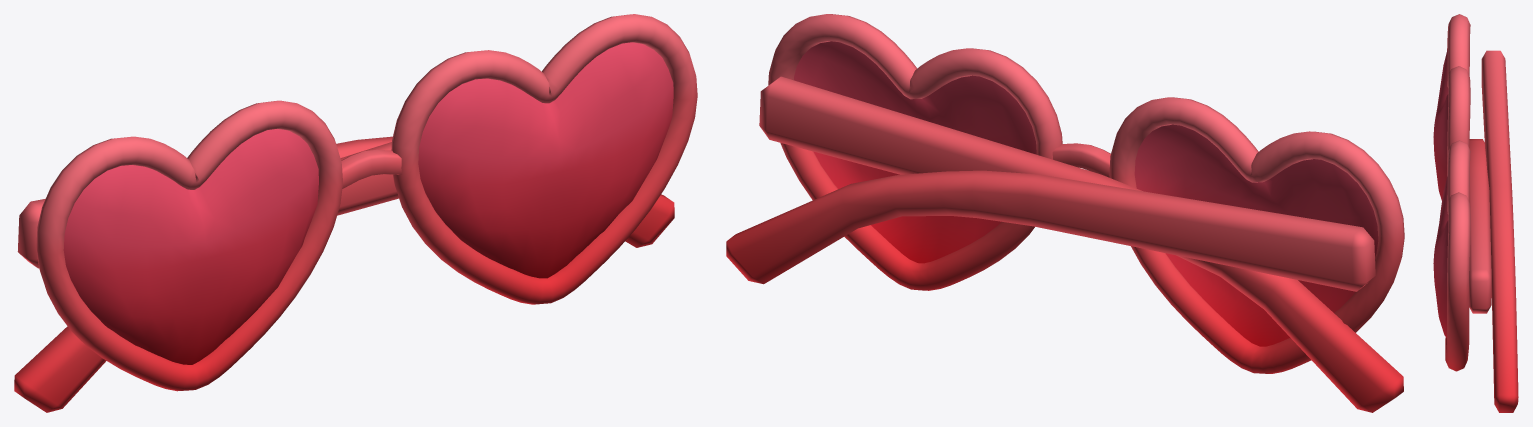
The model's file is glasses.fbx.
The picture shows the model from 3 angles, left to right: view 1: azimuth 30°, elevation 25°; view 2: azimuth 150°, elevation 25°; view 3: azimuth 270°, elevation 25°; orthographic projection. The views are drawn at different scales.
Visible parts, largest first — view 1: glasses_glass, glasses; view 2: glasses, glasses_glass; view 3: glasses, glasses_glass.
Boxes of the visible parts, left/top/right/bottom form: glasses_glass: left=63, top=42, right=673, bottom=364; glasses: left=14, top=14, right=697, bottom=412; glasses: left=726, top=14, right=1404, bottom=412; glasses_glass: left=794, top=41, right=1378, bottom=346; glasses: left=1445, top=14, right=1518, bottom=412; glasses_glass: left=1433, top=49, right=1448, bottom=337.
Size of the model in its own units: 1.78 by 0.6796 by 0.2674.
